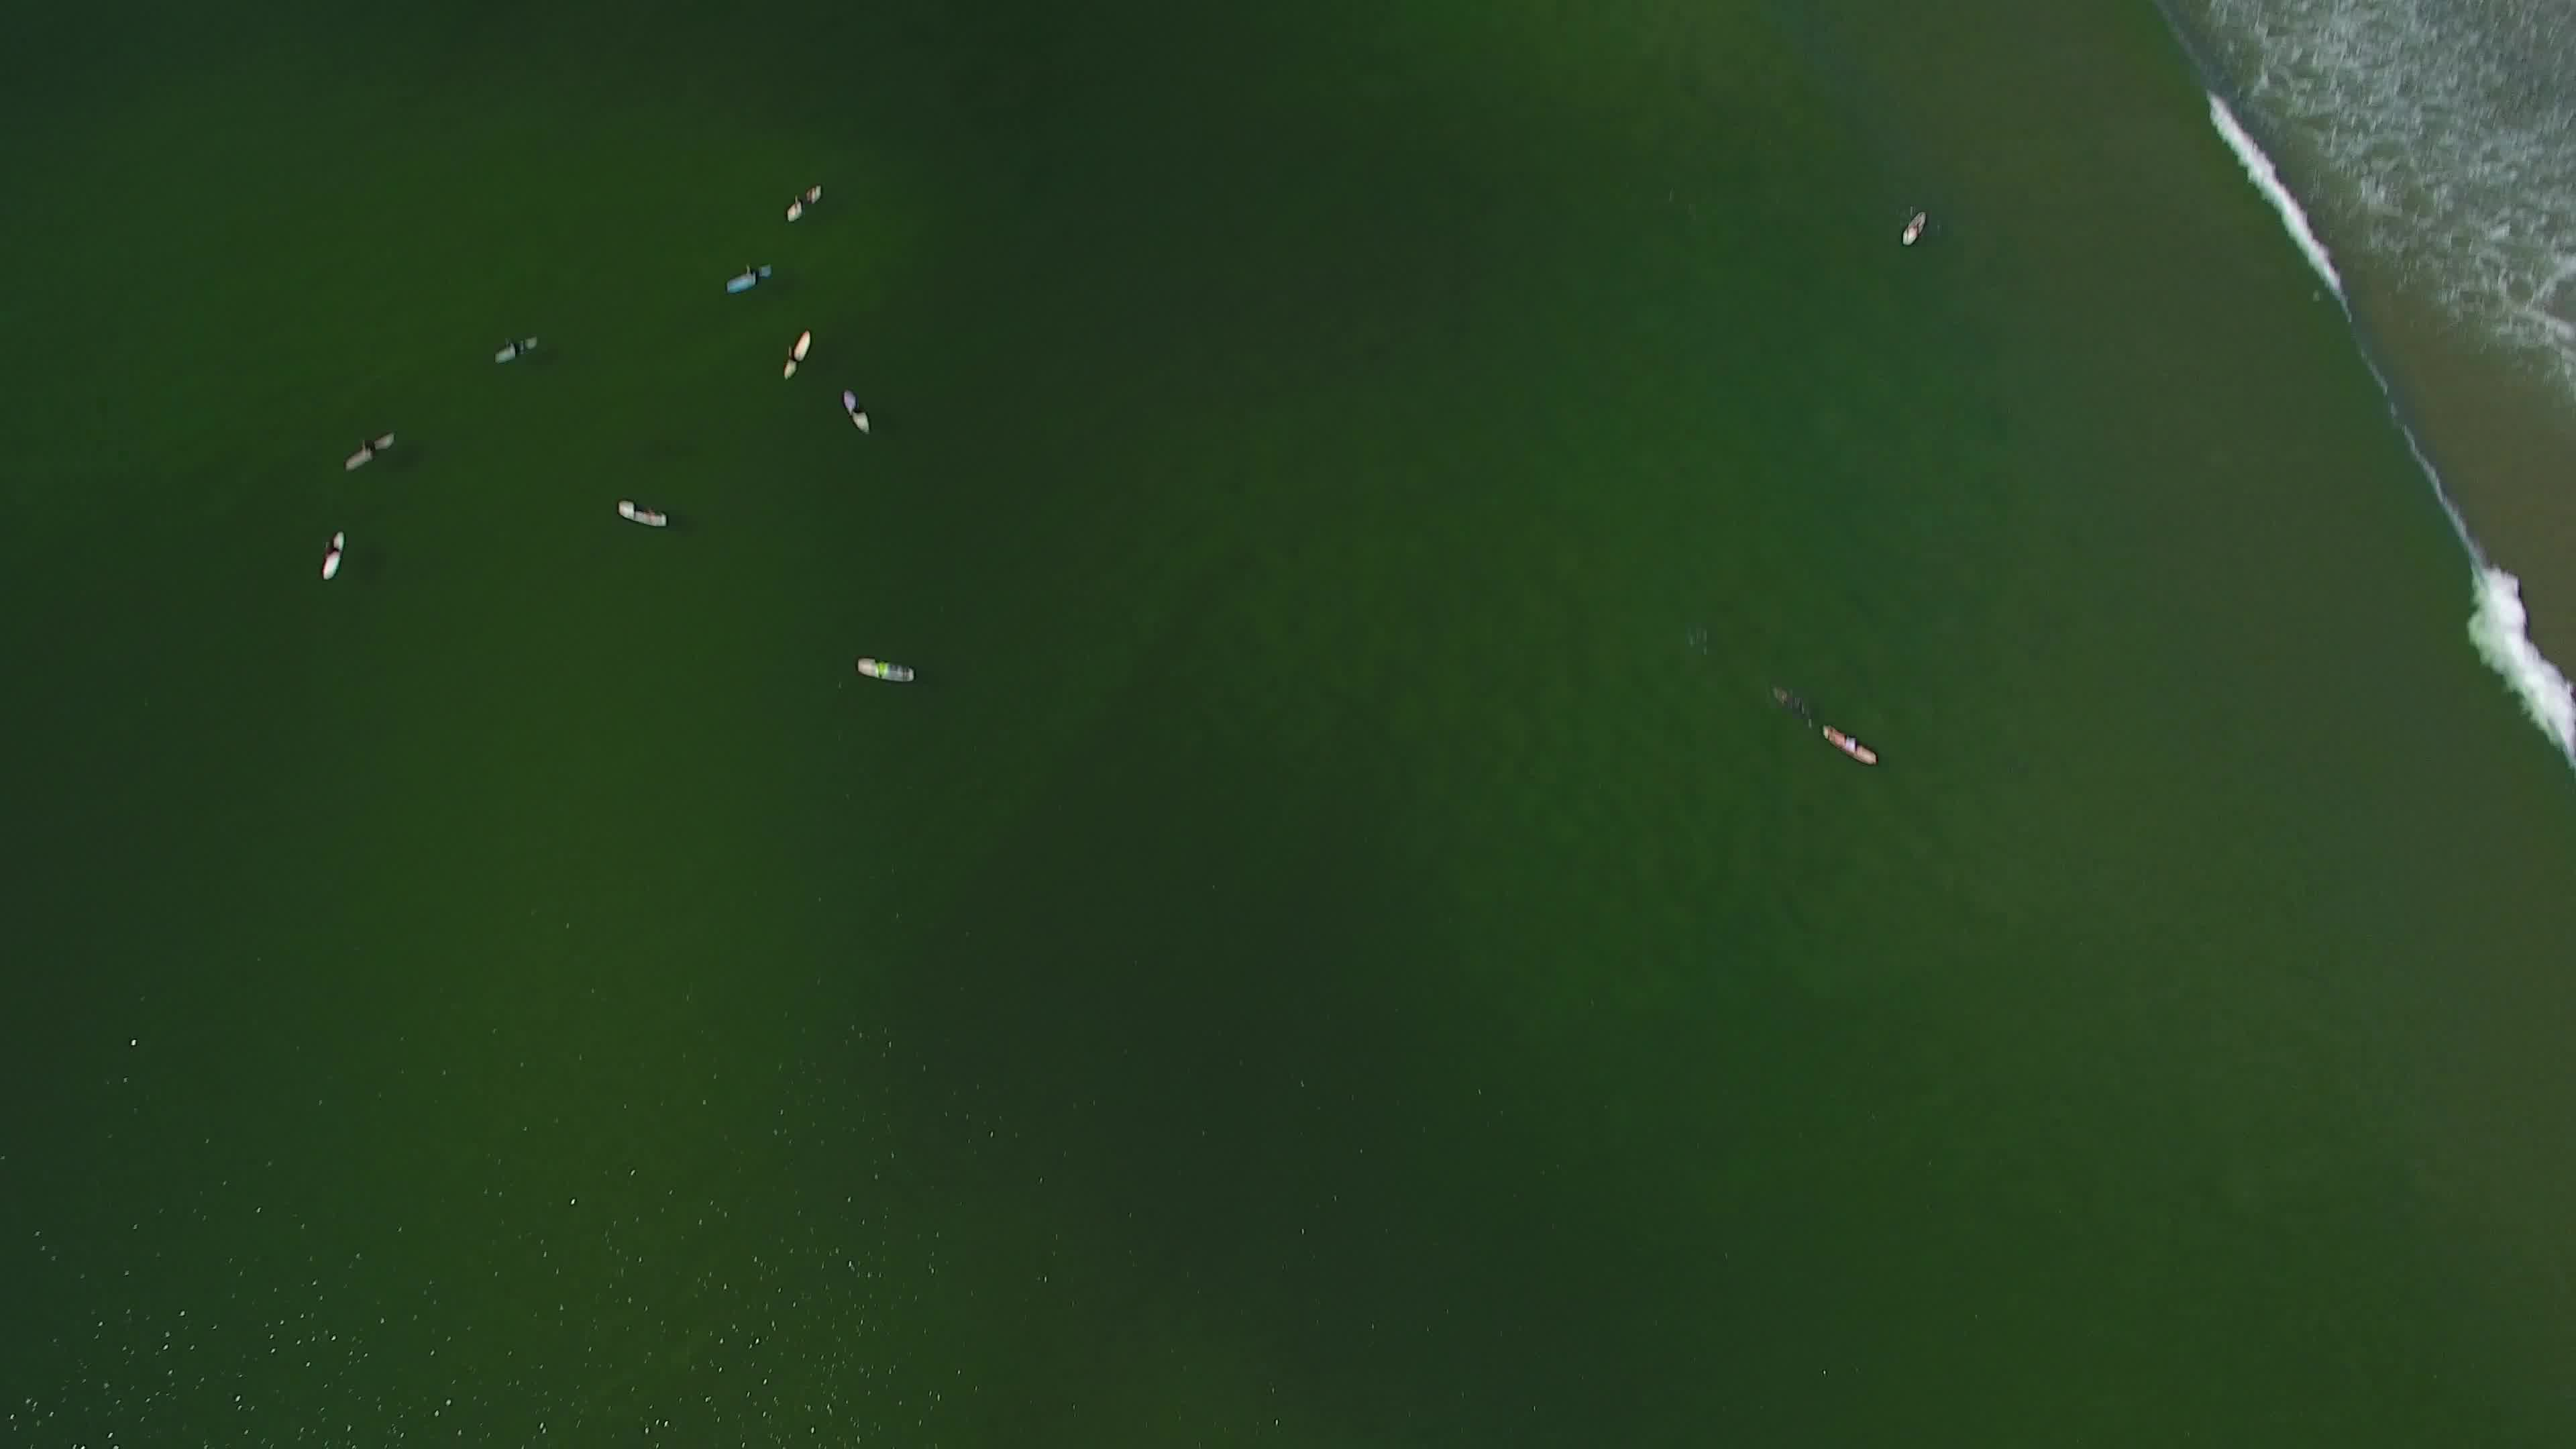surfer: (1808, 717, 1890, 771), (341, 430, 402, 474), (855, 646, 916, 688), (722, 260, 778, 303), (835, 386, 878, 439), (492, 329, 545, 372), (619, 492, 672, 533), (786, 180, 830, 225), (318, 531, 356, 580), (780, 329, 816, 380), (1898, 205, 1936, 253)
